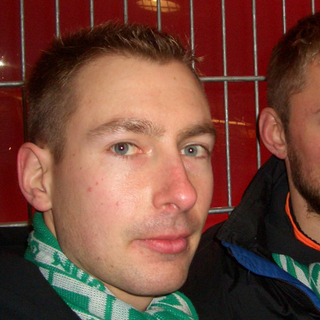eye: (102, 135, 148, 161), (174, 140, 213, 163)
